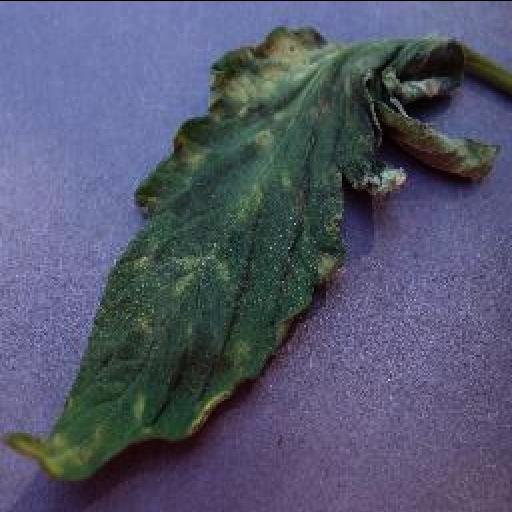disease_tomato: (2, 22, 500, 484)
